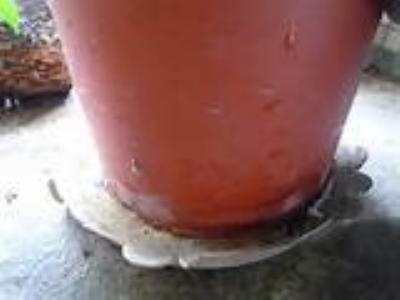plate: (45, 119, 377, 267)
